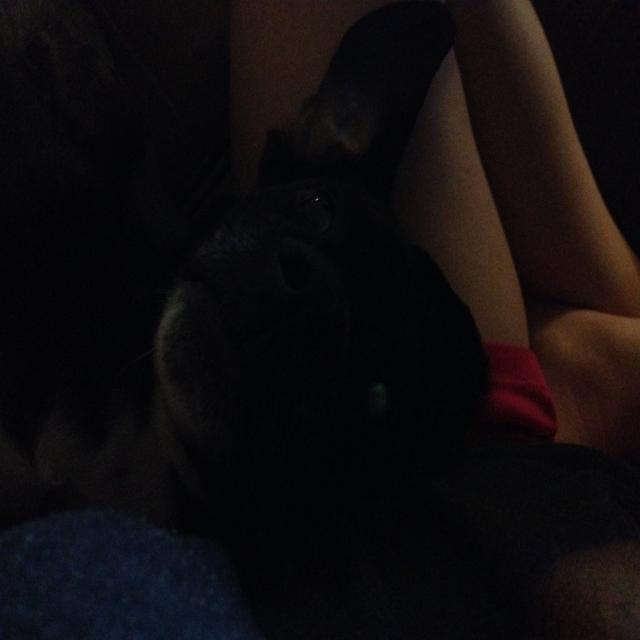Dog: (109, 85, 578, 603)
